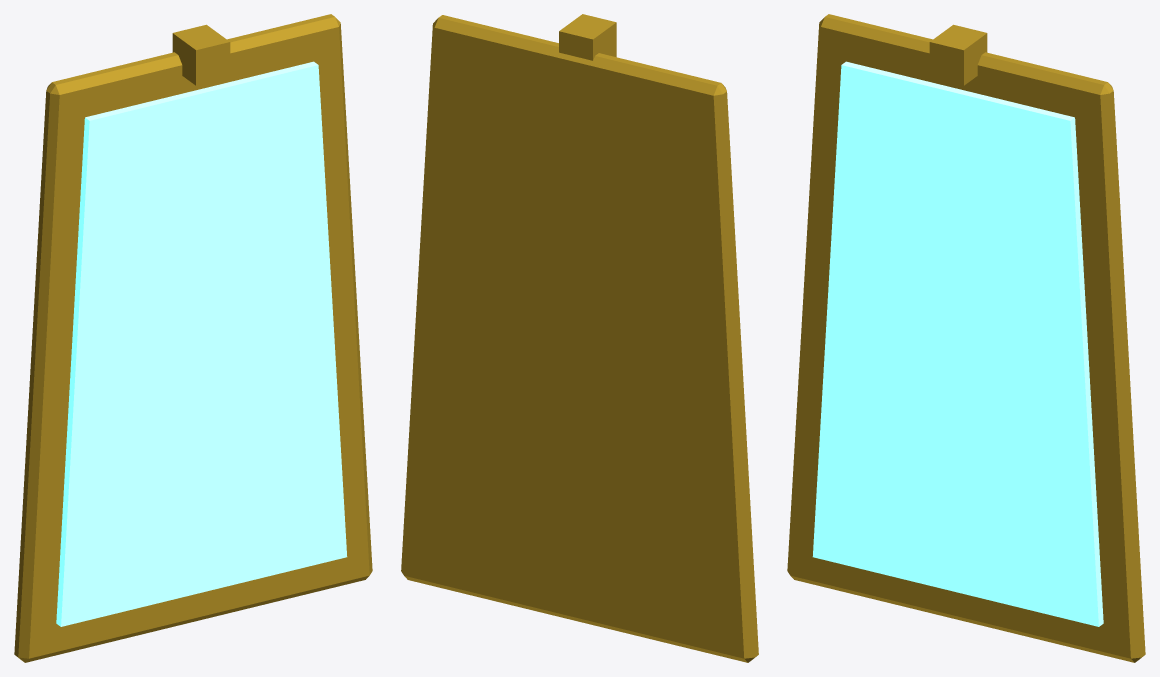
File: dc_shield_panel.glb
The picture shows the model from 3 angles, left to right: view 1: azimuth 30°, elevation 25°; view 2: azimuth 150°, elevation 25°; view 3: azimuth 330°, elevation 25°; orthographic projection.
Parts seen in each view (by area): view 1: part.dc_shield_panel; view 2: part.dc_shield_panel; view 3: part.dc_shield_panel.
Part boxes in pixels (left/top/right/bottom): part.dc_shield_panel: left=14, top=14, right=372, bottom=662; part.dc_shield_panel: left=401, top=14, right=758, bottom=662; part.dc_shield_panel: left=787, top=14, right=1145, bottom=662.
Bounding box in the file's own units: 0.52 × 0.825 × 0.065.
